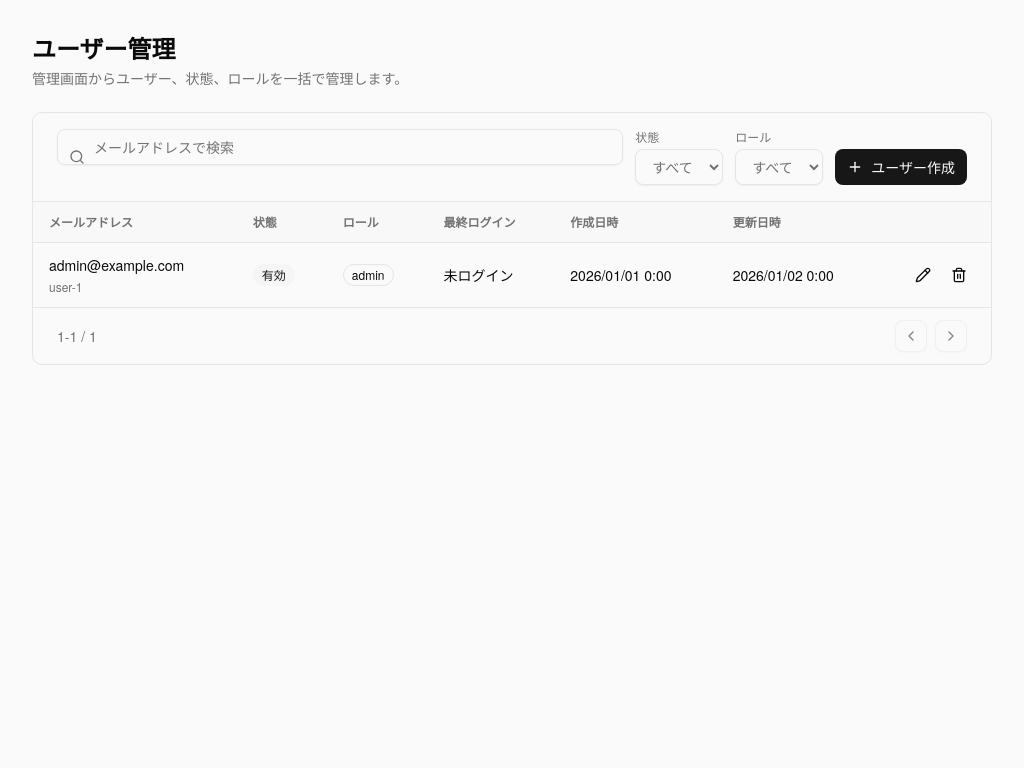
Test case: AdminUsersPage は Escape で作成ダイアログを閉じる
Check: the text "admin@example.com" is shown, box [49,255,184,275]
Click the button "ユーザー作成".
click(901, 167)  # box [835,149,967,185]
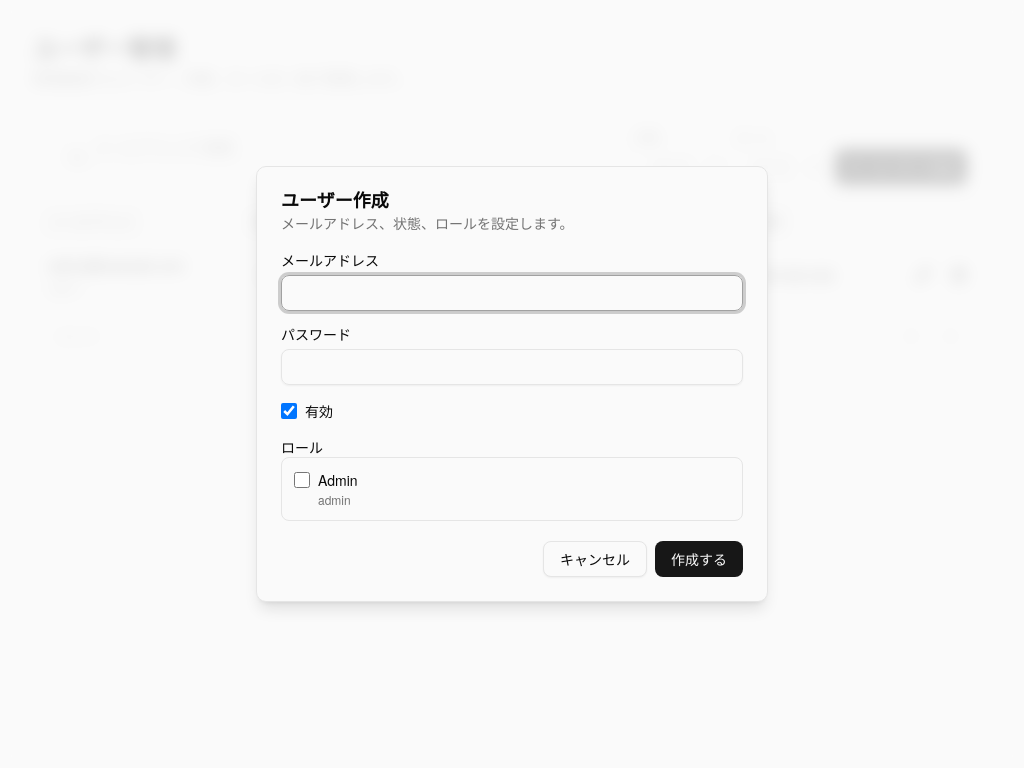
Check: the dialog is shown, box [256,166,768,602]
Press Escape
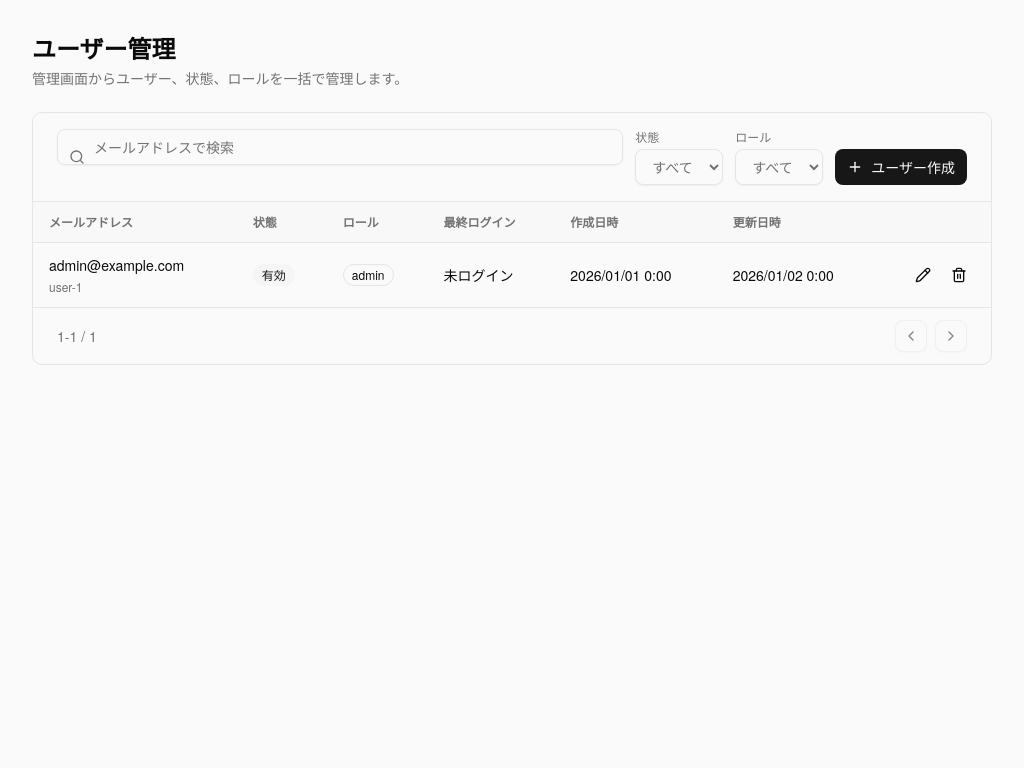
Check: the dialog is gone
